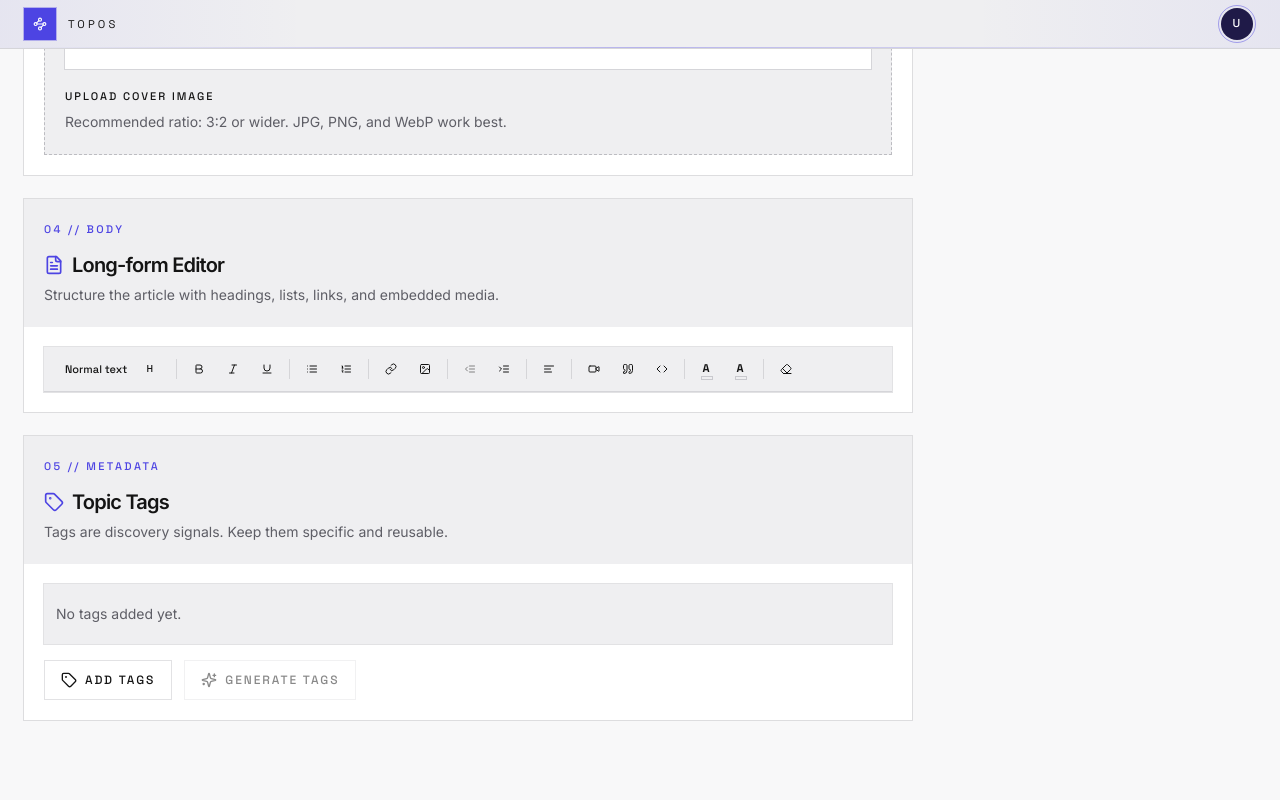
Test: CreateNewBlog - integration › adds a tag successfully
(page scrolled)
Click the button "Add Tags". click: (108, 680)
box: x1=44 y1=660 x2=172 y2=700
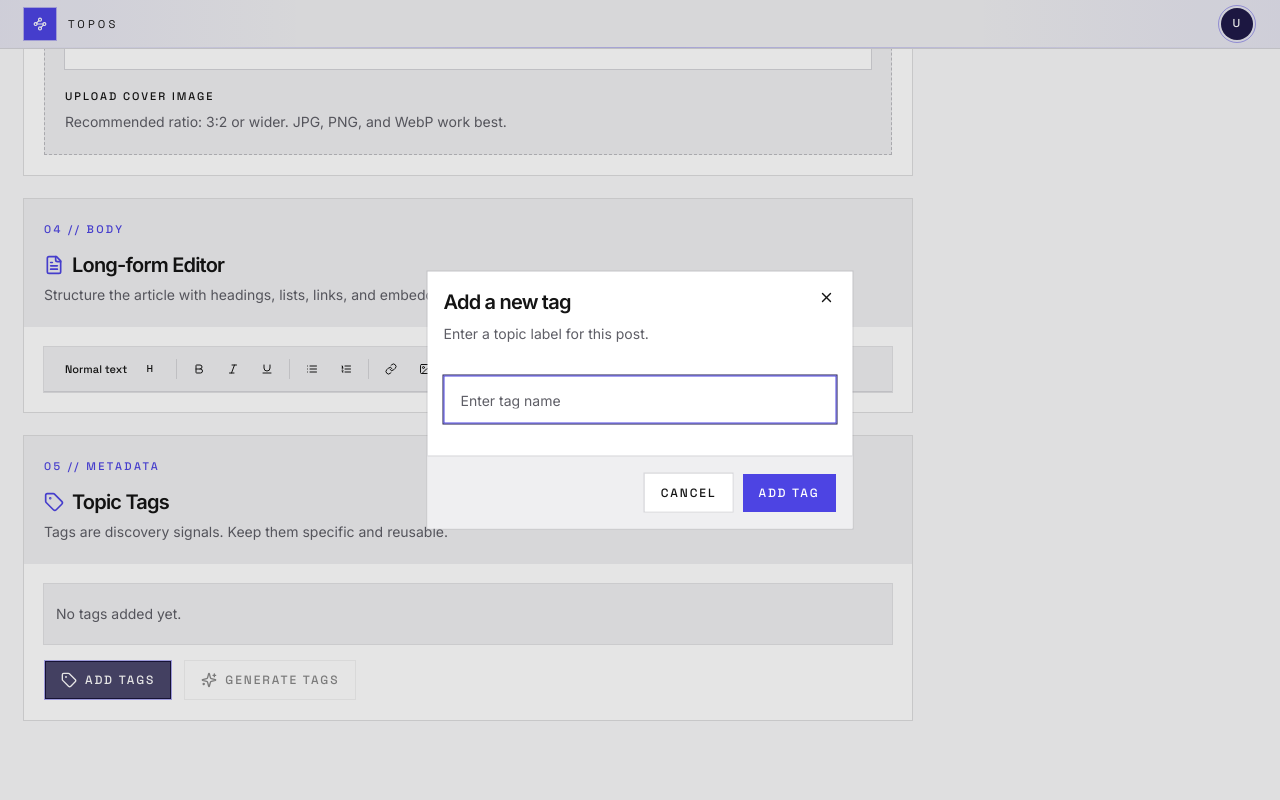
Type "Architecture" into the field with placeholder "Enter tag name". click: (640, 400)
box: x1=444 y1=376 x2=836 y2=424
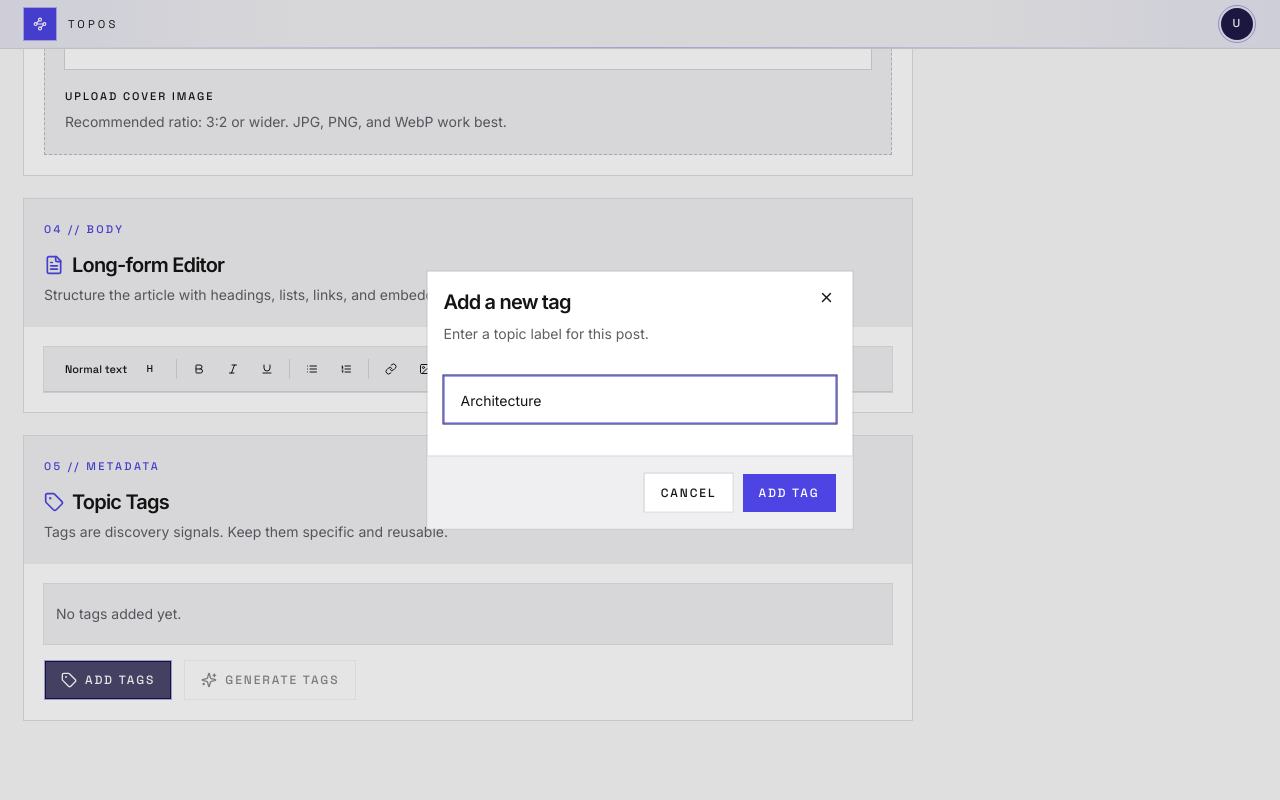
Click the button "Add Tag". click: (789, 492)
box: x1=741 y1=472 x2=836 y2=512
(page scrolled)
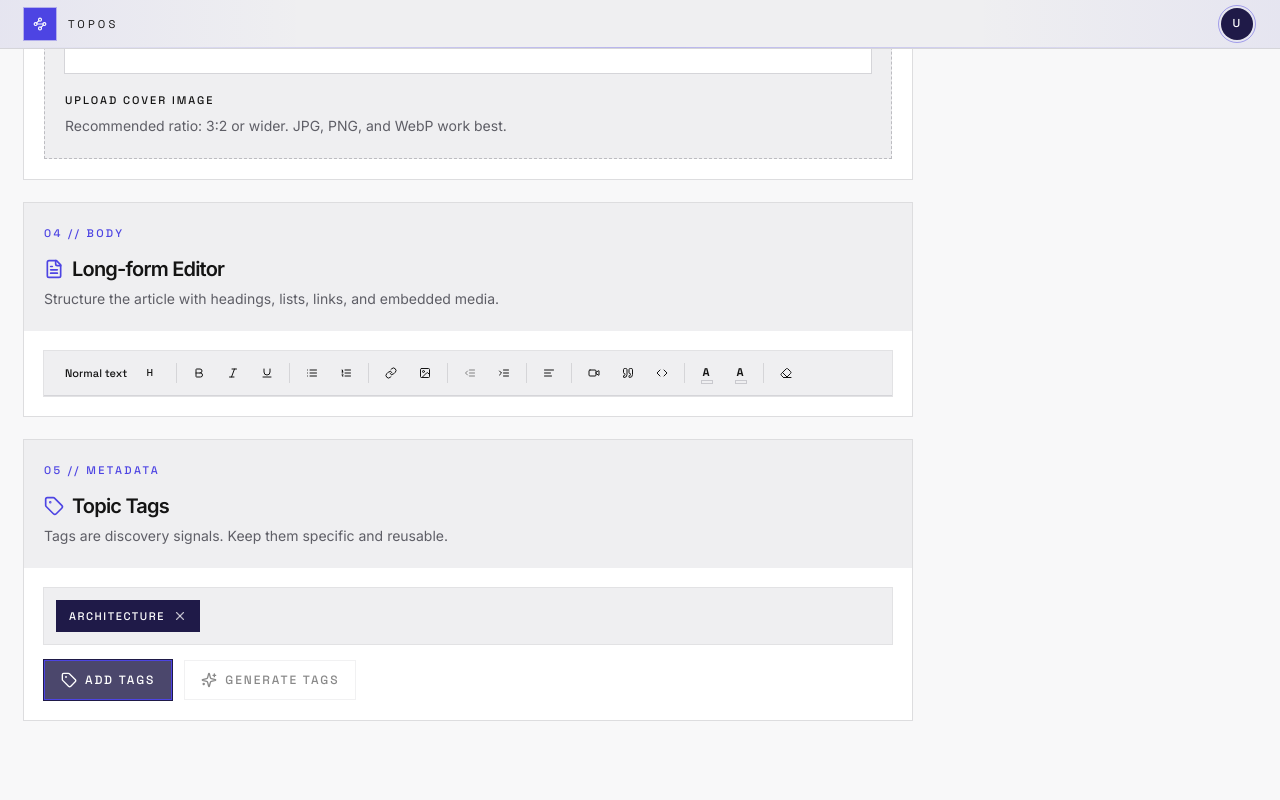
Result: the text "Architecture" is shown at x1=56 y1=600 x2=200 y2=632
Result: the button named "remove architecture tag" is shown at x1=173 y1=608 x2=187 y2=622
